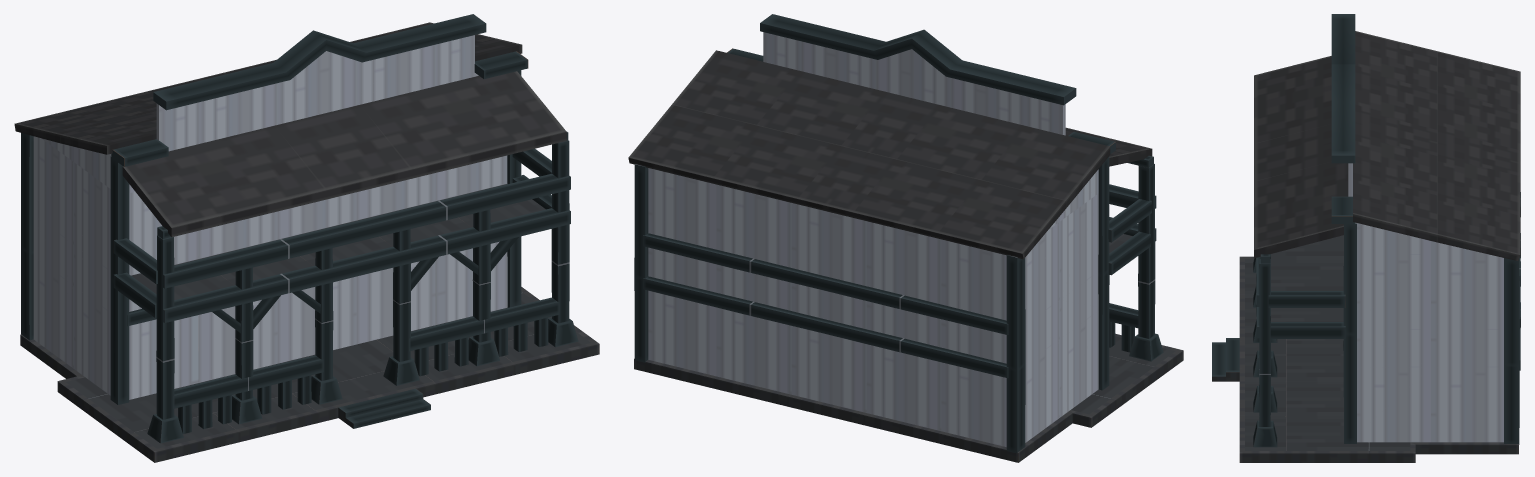
File: house_v1_blank_ncl1_1.fbx
The picture shows the model from 3 angles, left to right: view 1: azimuth 30°, elevation 25°; view 2: azimuth 150°, elevation 25°; view 3: azimuth 270°, elevation 25°; orthographic projection. The views are drawn at different scales.
Visible parts, largest first — view 1: house_v1_blank; view 2: house_v1_blank; view 3: house_v1_blank.
Part boxes in pixels (x1,y1,x2,y2): house_v1_blank: (14, 14, 599, 462); house_v1_blank: (628, 14, 1183, 462); house_v1_blank: (1212, 14, 1520, 462).
Bounding box in the file's own units: 1126 × 802 × 747.
